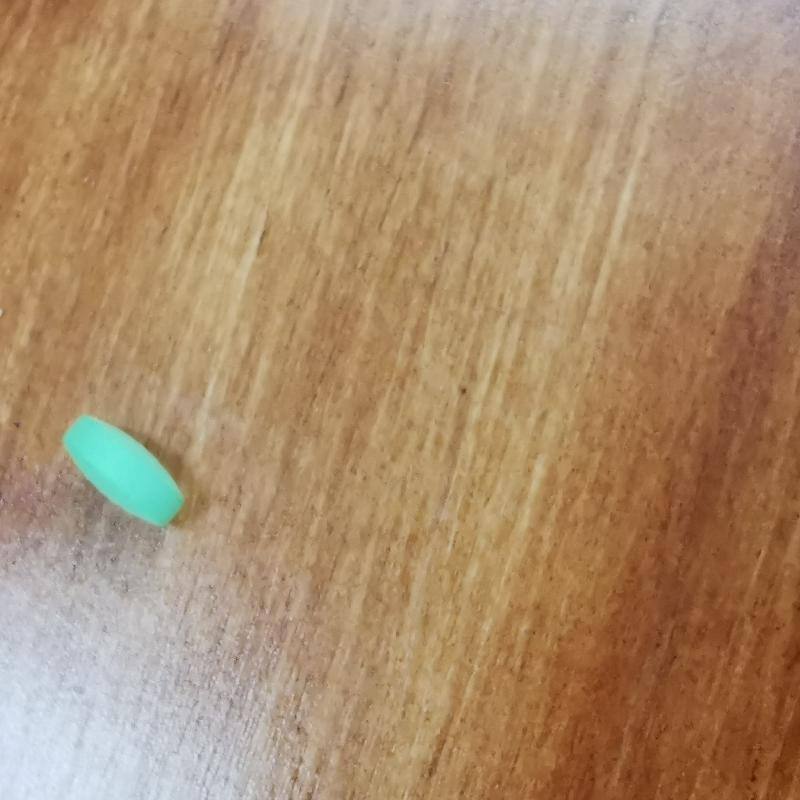pills: (61, 402, 201, 557)
